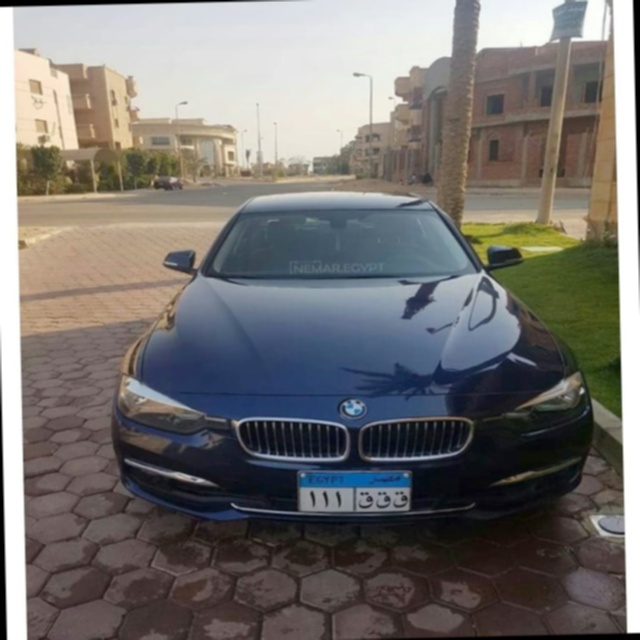License Plate: (295, 465, 415, 518)
